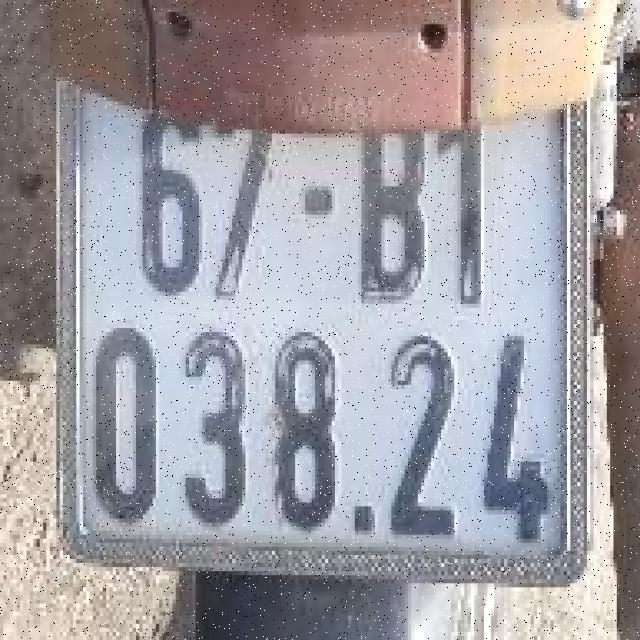0: (81, 318, 168, 541)
1: (434, 95, 498, 318)
2: (382, 318, 468, 545)
3: (171, 320, 257, 539)
4: (474, 322, 570, 557)
6: (138, 99, 207, 298)
7: (206, 103, 285, 306)
8: (259, 312, 358, 551)
B: (350, 115, 429, 322)
